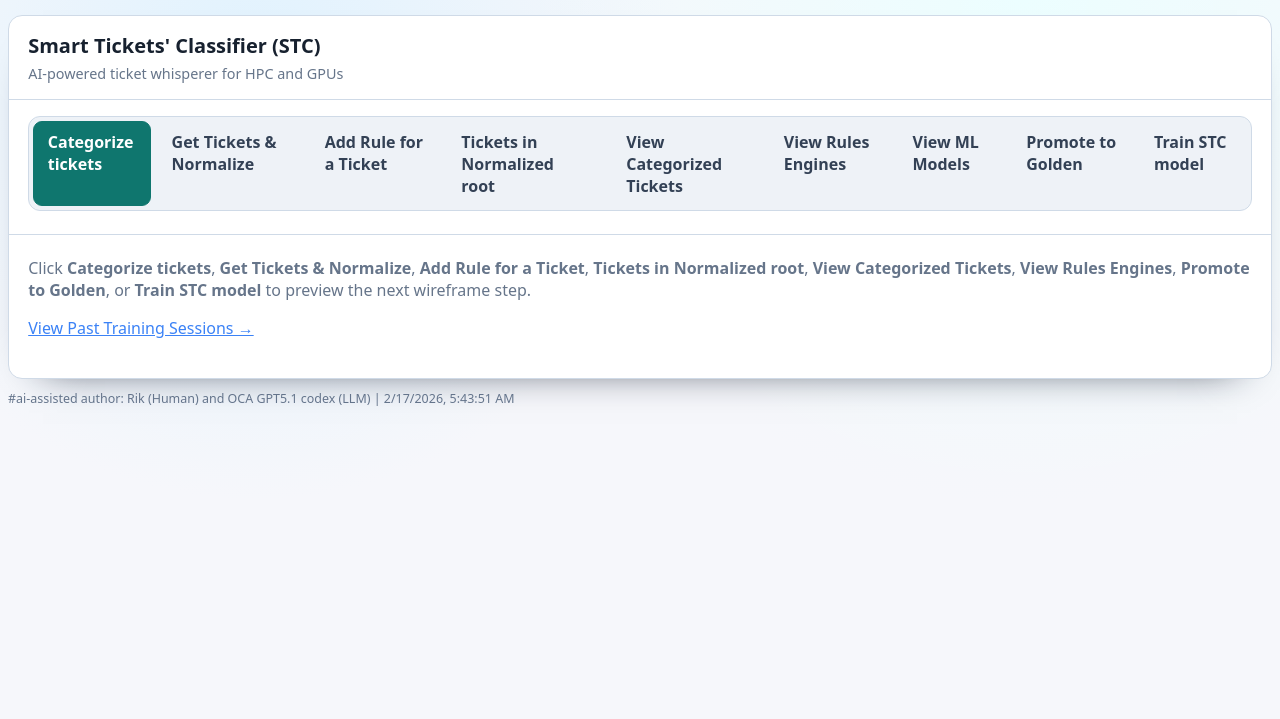
Test: STC wireframe flow › lists tickets from normalized root, shows details, and supports copy
This screenshot has width=1280, height=719.
Click the link "Tickets in Normalized root" at [508, 164], box x1=461 y1=131 x2=554 y2=197
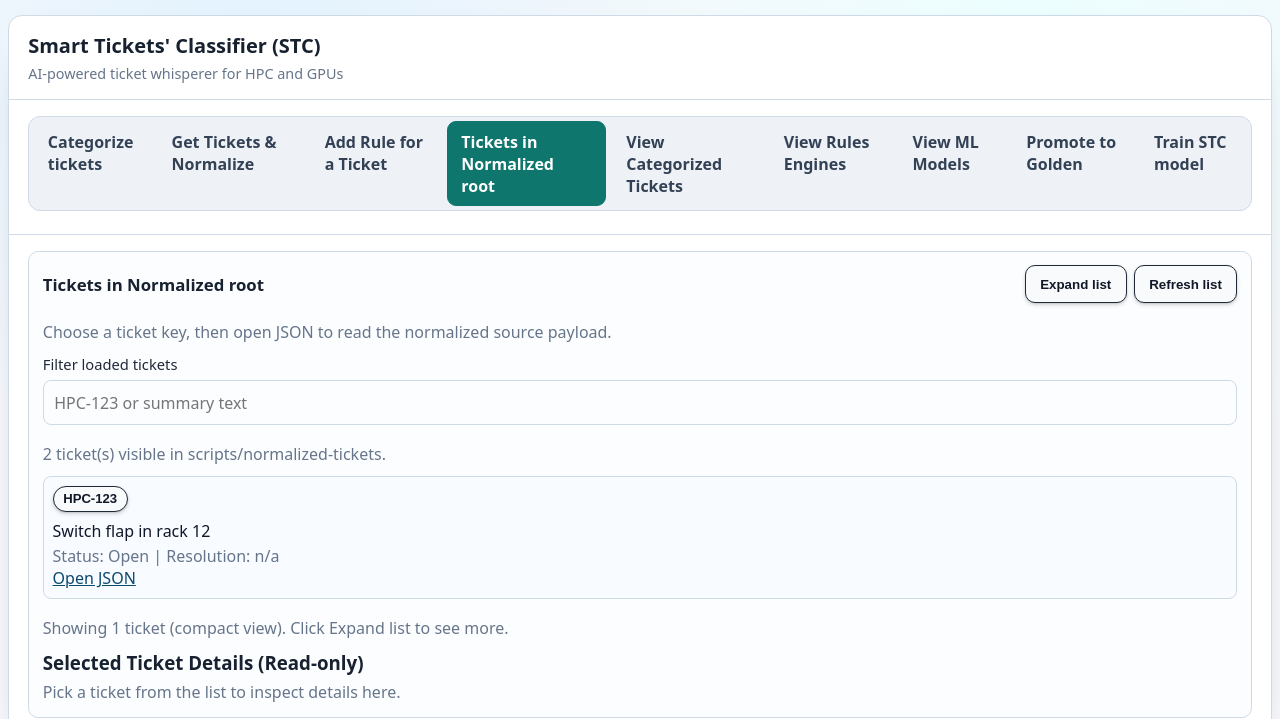
Click the button "HPC-123" at [90, 499], box x1=53 y1=486 x2=128 y2=512
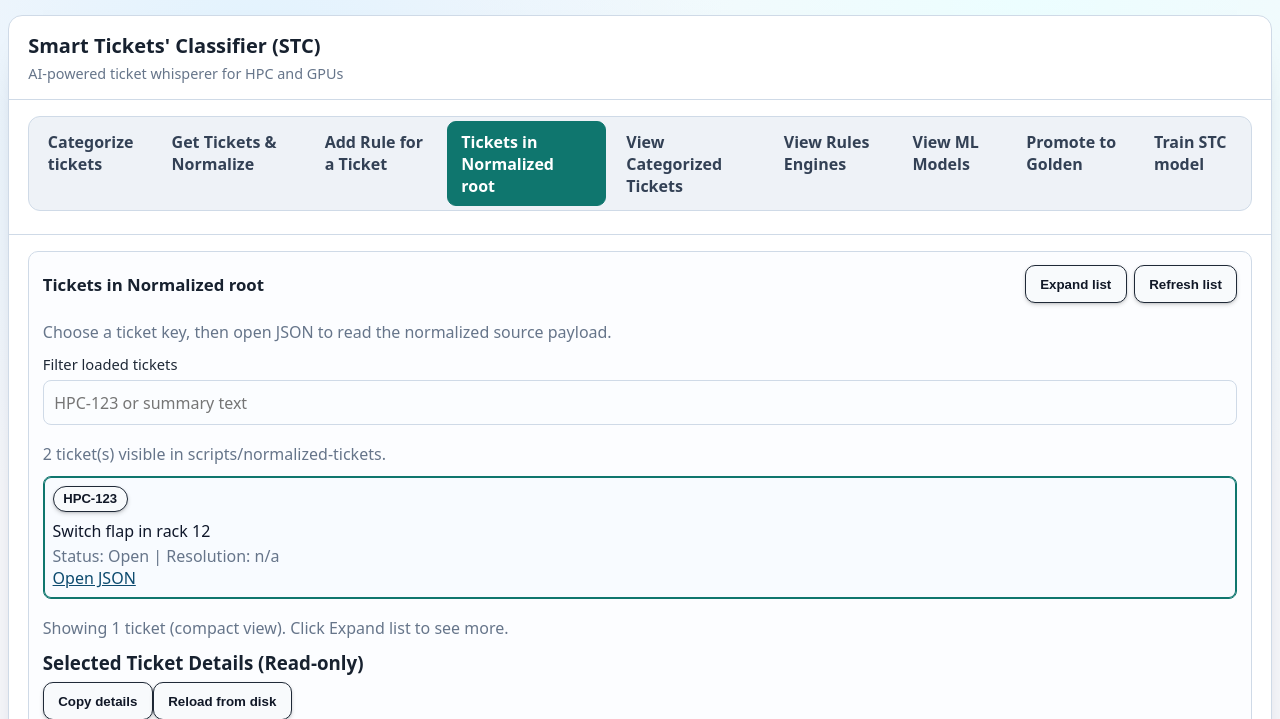
Expected: the heading "Selected Ticket Details (Read-only)" is shown, x1=43 y1=650 x2=364 y2=675
Click the button "Copy details" at [98, 701], box x1=43 y1=682 x2=153 y2=718
(page scrolled)
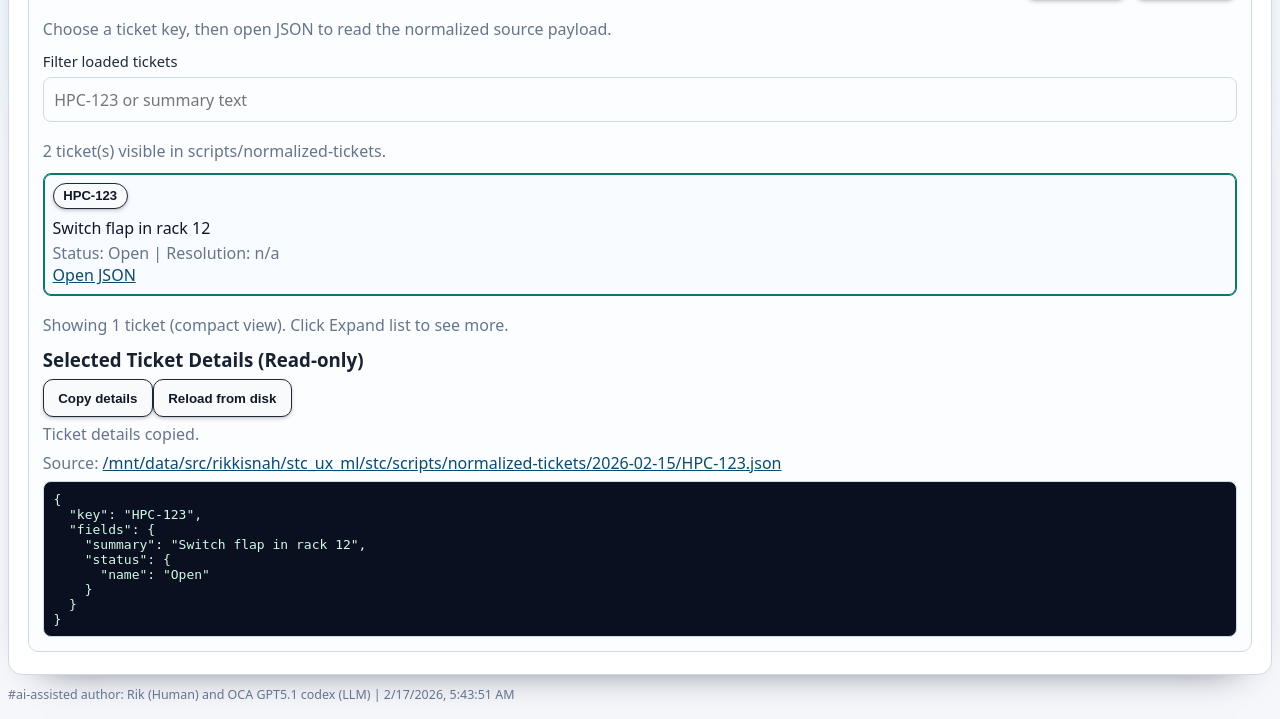
Expected: the text "Ticket details copied." is shown, x1=43 y1=423 x2=199 y2=445
